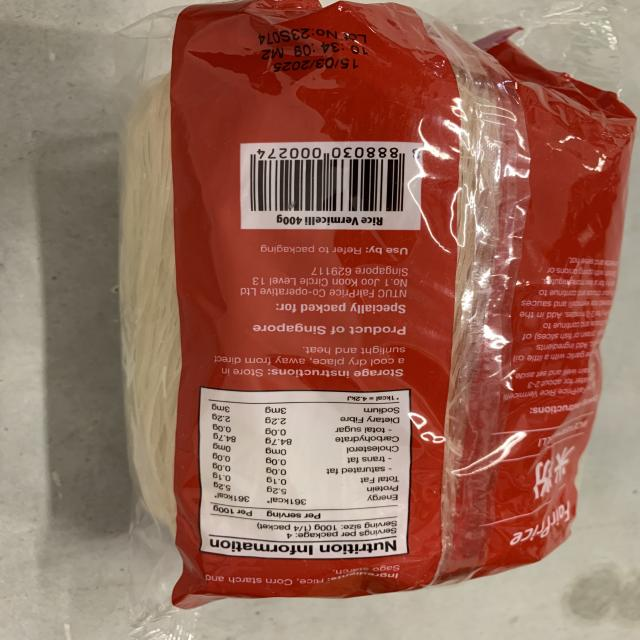object_name: (135, 13, 582, 592)
